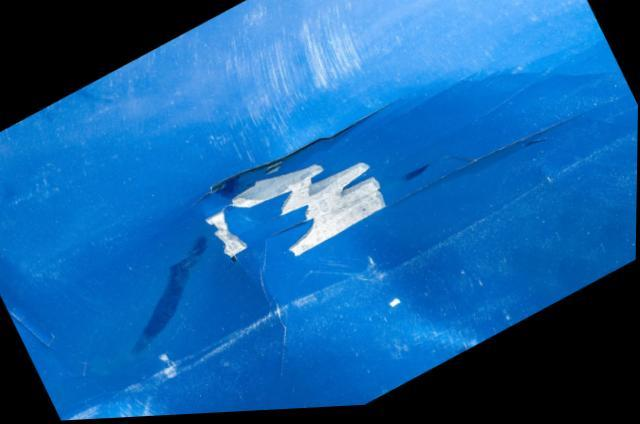dent: (0, 74, 633, 421)
scratch: (202, 0, 377, 157)
